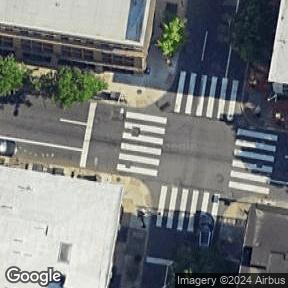vegetation: (56, 67, 107, 110), (149, 13, 193, 59), (0, 55, 29, 95)
